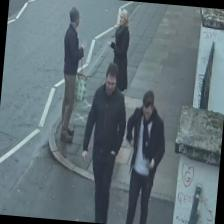person: (76, 61, 131, 224), (118, 89, 170, 224), (56, 5, 90, 141), (100, 8, 134, 116)
